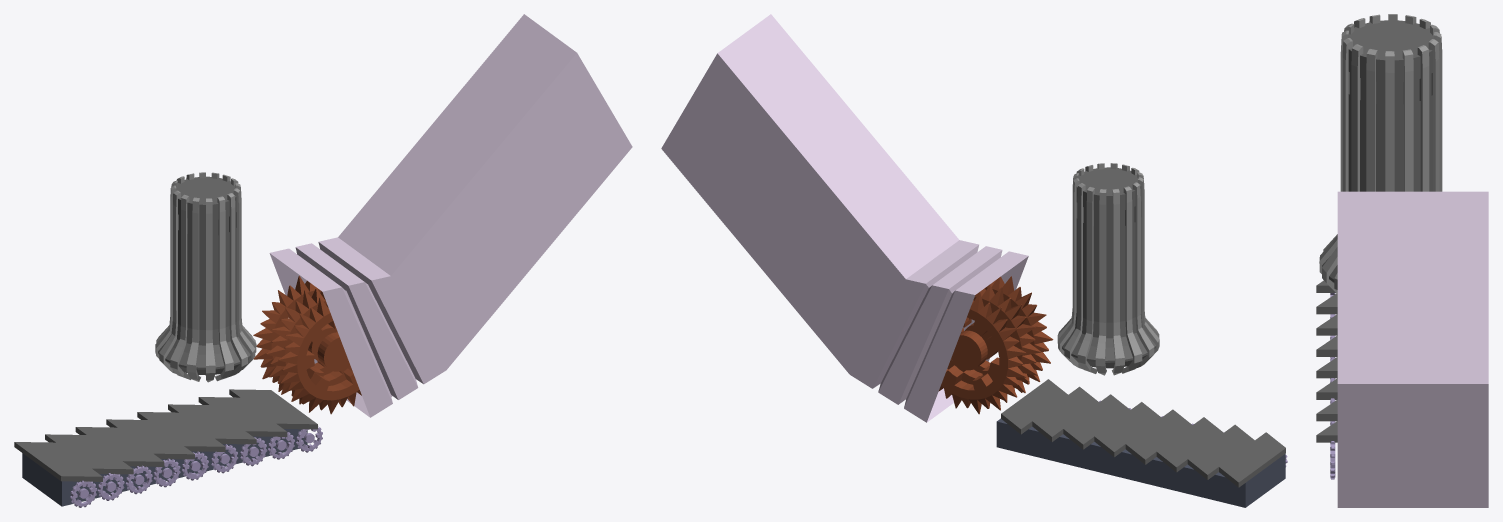
The model's file is MiniGameJam_072025_assets_2.0.fbx.
3 views of the same model, side by side, from view 1: azimuth 30°, elevation 25°; view 2: azimuth 150°, elevation 25°; view 3: azimuth 270°, elevation 25° (orthographic). The views are drawn at different scales.
Parts seen in each view (by area): view 1: fleischwolf, Tube, conveyorBelt_top, fleischwolf_Wheel_1, conveyorBelt_body, fleischwolf_Wheel_2, fleischwolf_Wheel_3; view 2: fleischwolf, Tube, conveyorBelt_top, conveyorBelt_body, fleischwolf_Wheel_3, fleischwolf_Wheel_2, fleischwolf_Wheel_1; view 3: fleischwolf, Tube, conveyorBelt_top, conveyorBelt_Wheel_9.
Boxes of the visible parts, x1,y1,x2,y2 form: fleischwolf: (269, 14, 632, 417); Tube: (155, 172, 256, 382); conveyorBelt_top: (14, 389, 317, 481); fleischwolf_Wheel_1: (278, 297, 361, 414); conveyorBelt_body: (22, 429, 307, 506); fleischwolf_Wheel_2: (266, 288, 350, 404); fleischwolf_Wheel_3: (253, 275, 332, 391); fleischwolf: (661, 14, 1028, 422); Tube: (1057, 163, 1159, 375); conveyorBelt_top: (1001, 379, 1285, 487); conveyorBelt_body: (996, 418, 1285, 507); fleischwolf_Wheel_3: (938, 293, 1025, 414); fleischwolf_Wheel_2: (947, 285, 1040, 402); fleischwolf_Wheel_1: (961, 276, 1053, 392); fleischwolf: (1337, 191, 1488, 507); Tube: (1319, 14, 1442, 293); conveyorBelt_top: (1316, 280, 1337, 442); conveyorBelt_Wheel_9: (1330, 441, 1335, 479).
Bounding box in the file's own units: 1959 × 1096 × 361.
